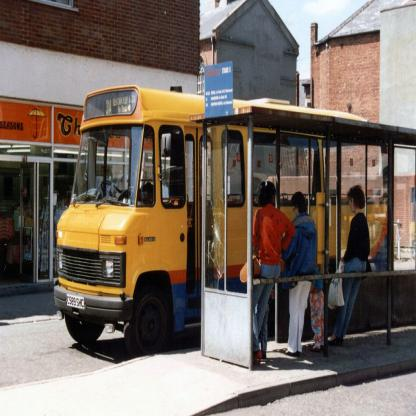Bus: (55, 83, 389, 357)
